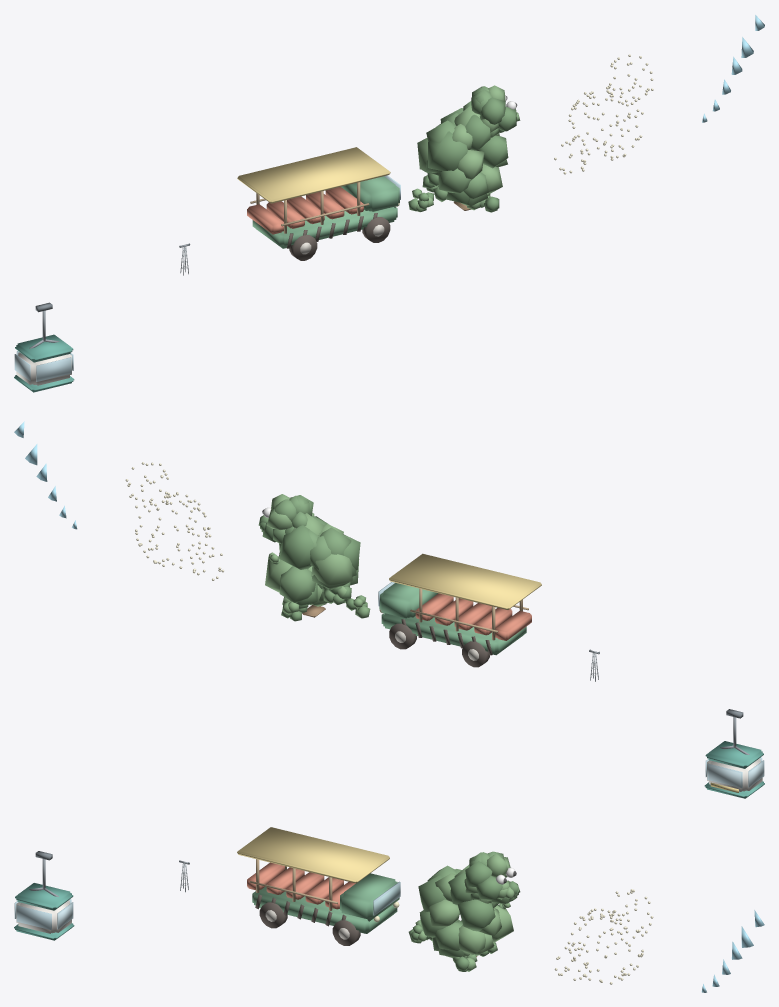
The model's file is rides-kit.glb.
The picture shows the model from 3 angles, top to bottom: view 1: azimuth 30°, elevation 25°; view 2: azimuth 150°, elevation 25°; view 3: azimuth 330°, elevation 25°; orthographic projection.
Visible parts, largest first — view 1: safari_bus, topiary_dino, gondola_cabin, dino_lights; view 2: safari_bus, topiary_dino, gondola_cabin, dino_lights; view 3: safari_bus, topiary_dino, gondola_cabin, dino_lights, dino_crystals.
Part boxes in pixels (box(x1,y1,x2,y2)): safari_bus: box(237, 147, 400, 260); topiary_dino: box(408, 85, 520, 212); gondola_cabin: box(14, 302, 74, 392); dino_lights: box(554, 54, 653, 174); safari_bus: box(378, 553, 541, 667); topiary_dino: box(258, 494, 370, 621); gondola_cabin: box(704, 709, 764, 798); dino_lights: box(125, 462, 223, 580); safari_bus: box(237, 827, 400, 945); topiary_dino: box(408, 851, 520, 971); gondola_cabin: box(14, 851, 74, 940); dino_lights: box(554, 889, 653, 984); dino_crystals: box(701, 910, 764, 992).
Size of the model in its own units: 26.44 by 6.58 by 2.57.
